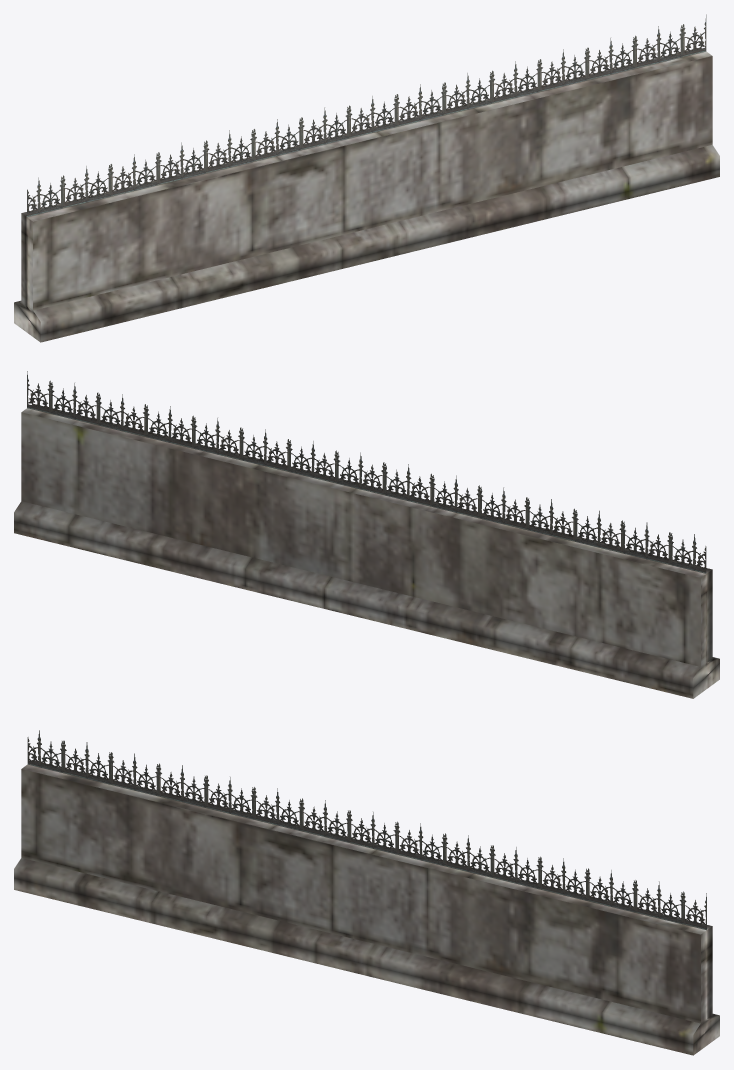
File: fence_sm.glb
3 renders of one model, top to bottom at view 1: azimuth 30°, elevation 25°; view 2: azimuth 150°, elevation 25°; view 3: azimuth 330°, elevation 25°, orthographic.
Visible parts, largest first — view 1: fence_sm; view 2: fence_sm; view 3: fence_sm.
Part boxes in pixels (x1,y1,x2,y2): fence_sm: (14,14,719,342); fence_sm: (14,371,719,698); fence_sm: (14,730,719,1055).
Bounding box in the file's own units: 8 × 1.72 × 0.5426.
2 materials, 2 textured.
